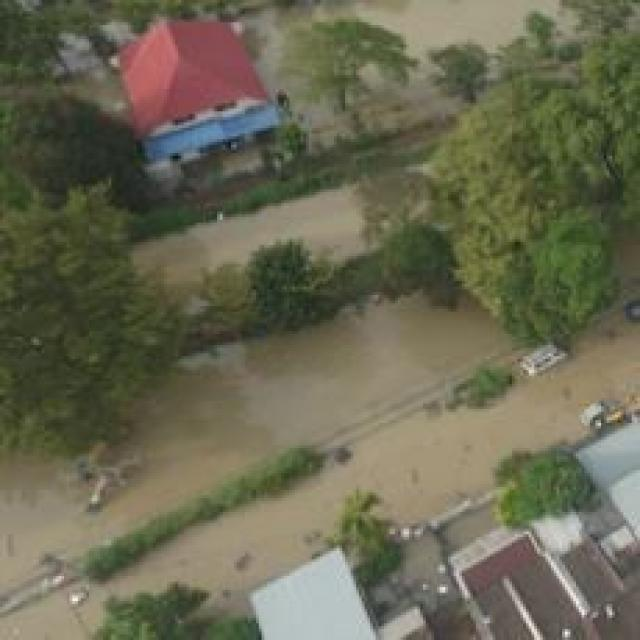flooded_areas: (0, 100, 632, 593)
